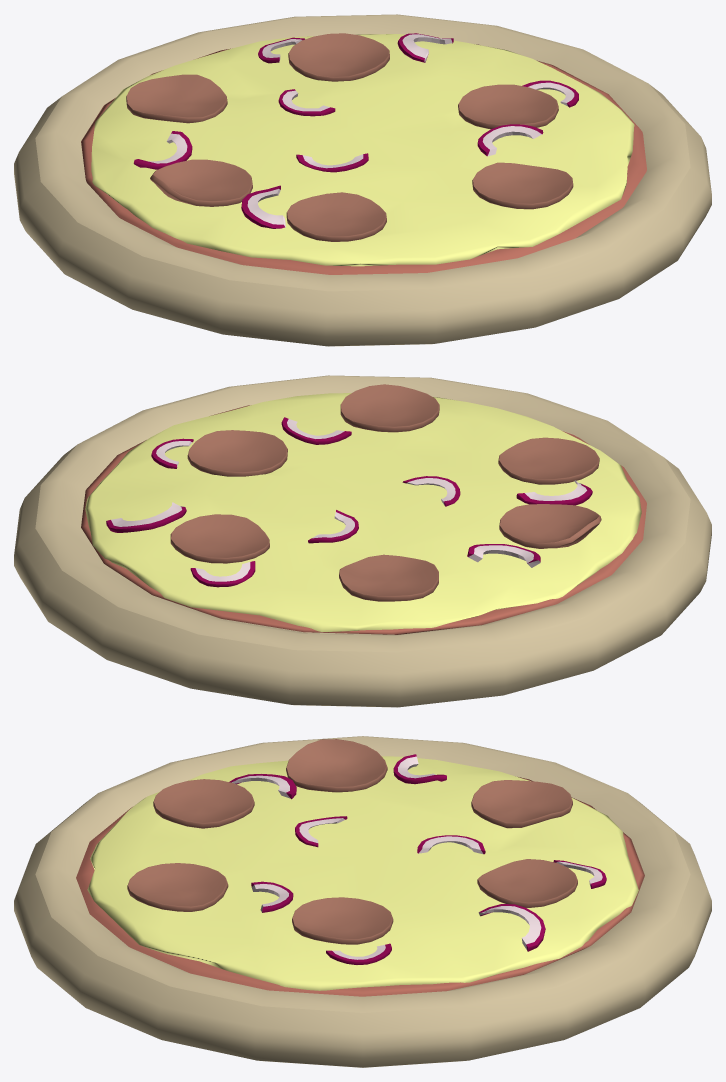
File: thick_onion_sausage.gltf
3 views of the same model, one above another, from view 1: azimuth 30°, elevation 25°; view 2: azimuth 150°, elevation 25°; view 3: azimuth 270°, elevation 25° (orthographic).
Visible parts, largest first — view 1: thick, cheese, polySurface145, polySurface143, polySurface147, polySurface146, polySurface144, polySurface142, polySurface210, polySurface209, polySurface214, polySurface215 (+3 smaller); view 2: thick, cheese, polySurface147, polySurface142, polySurface145, polySurface144, polySurface143, polySurface146, polySurface215, polySurface214, polySurface210, polySurface208 (+4 smaller); view 3: thick, cheese, polySurface146, polySurface144, polySurface143, polySurface142, polySurface145, polySurface147, polySurface215, polySurface214, polySurface209, polySurface210 (+3 smaller).
Boxes of the visible parts, x1,y1,x2,y2 form: thick: (14,14,711,346); cheese: (91,34,634,266); polySurface145: (126,74,227,123); polySurface143: (286,192,386,241); polySurface147: (288,33,389,81); polySurface146: (150,159,252,206); polySurface144: (472,162,573,209); polySurface142: (458,84,558,129); polySurface210: (241,185,285,228); polySurface209: (477,124,543,156); polySurface214: (133,131,192,169); polySurface215: (397,33,453,62); thick: (14,375,711,707); cheese: (85,393,641,631); polySurface147: (170,514,269,563); polySurface142: (187,430,287,476); polySurface145: (339,554,438,601); polySurface144: (340,384,439,432); polySurface143: (498,437,599,484); polySurface146: (499,504,601,548); polySurface215: (106,502,186,532); polySurface214: (467,544,540,567); polySurface210: (516,480,592,505); polySurface208: (190,561,255,587); thick: (14,736,711,1067); cheese: (87,756,638,990); polySurface146: (286,739,387,792); polySurface144: (127,863,228,911); polySurface143: (153,779,254,828); polySurface142: (292,897,393,944); polySurface145: (471,780,572,828); polySurface147: (477,859,577,907); polySurface215: (478,904,545,951); polySurface214: (393,754,446,784); polySurface209: (251,881,293,912); polySurface210: (229,774,296,799).
Size of the model in its own units: 0.1035 by 0.0141 by 0.1035.
